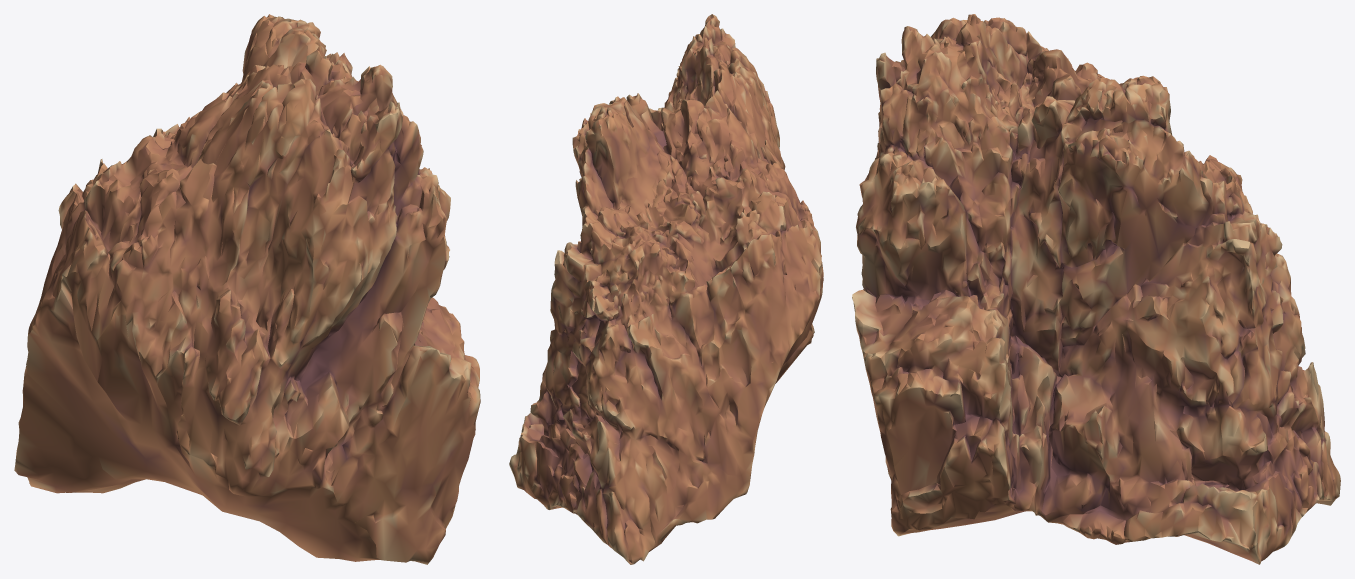
File: canyon-buttress.glb
The picture shows the model from 3 angles, left to right: view 1: azimuth 30°, elevation 25°; view 2: azimuth 150°, elevation 25°; view 3: azimuth 270°, elevation 25°; orthographic projection. The views are drawn at different scales.
Parts seen in each view (by area): view 1: scanned-boulder-buttress-1-high; view 2: scanned-boulder-buttress-1-high; view 3: scanned-boulder-buttress-1-high.
Part boxes in pixels (<box>): scanned-boulder-buttress-1-high: <box>14,14,480,564</box>; scanned-boulder-buttress-1-high: <box>509,14,823,564</box>; scanned-boulder-buttress-1-high: <box>852,14,1340,564</box>.
Bounding box in the file's own units: 80 × 120 × 100.
